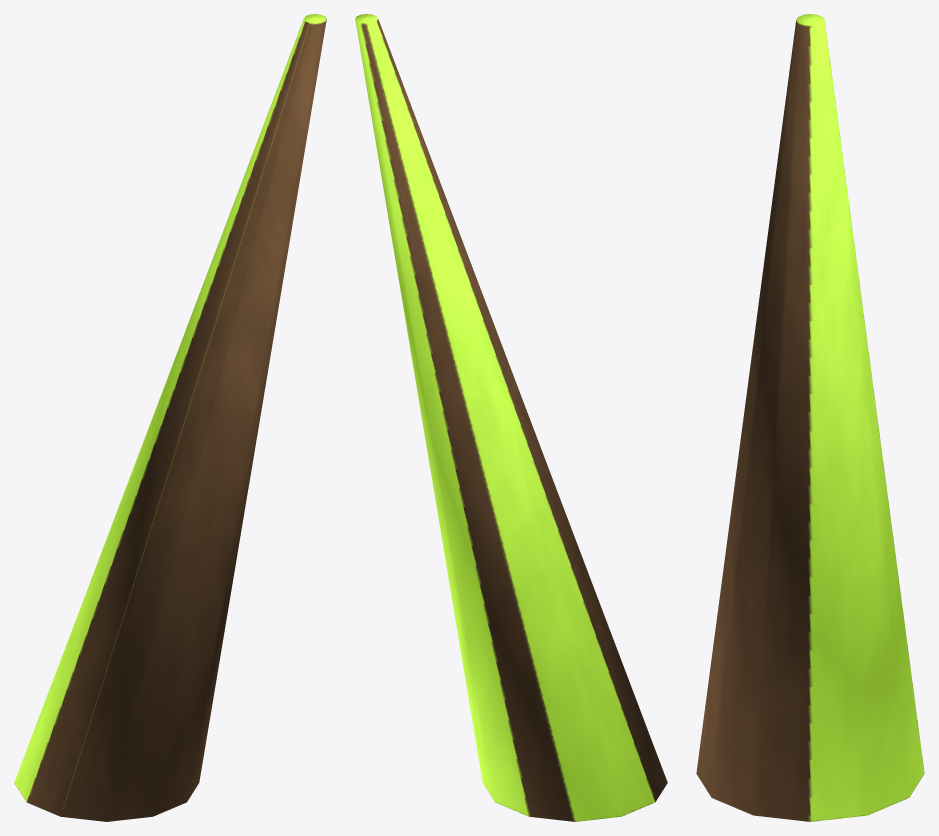
Rendered from boss_root_spike.glb.
3 views of the same model, side by side, from view 1: azimuth 30°, elevation 25°; view 2: azimuth 150°, elevation 25°; view 3: azimuth 270°, elevation 25° (orthographic). The views are drawn at different scales.
Parts seen in each view (by area): view 1: boss_root_spike_Mesh.001; view 2: boss_root_spike_Mesh.001; view 3: boss_root_spike_Mesh.001.
Part boxes in pixels (x1=…): boss_root_spike_Mesh.001: x1=14, y1=14, x2=326, y2=821; boss_root_spike_Mesh.001: x1=355, y1=14, x2=667, y2=821; boss_root_spike_Mesh.001: x1=696, y1=14, x2=924, y2=821.
Size of the model in its own units: 0.7452 by 1.7 by 0.4.
1 material, 1 textured.
